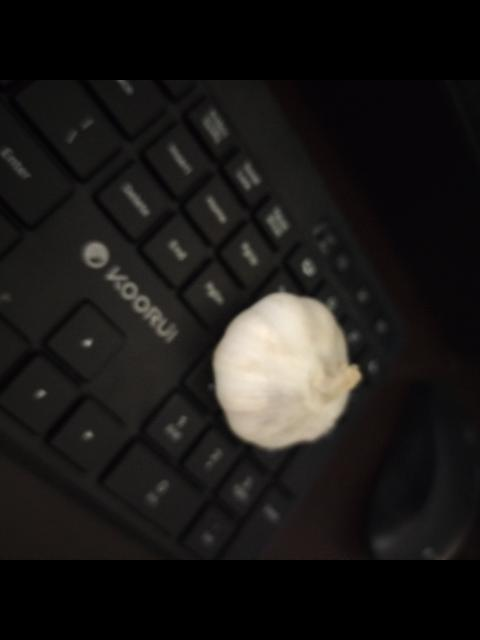garlic: (210, 292, 362, 451)
